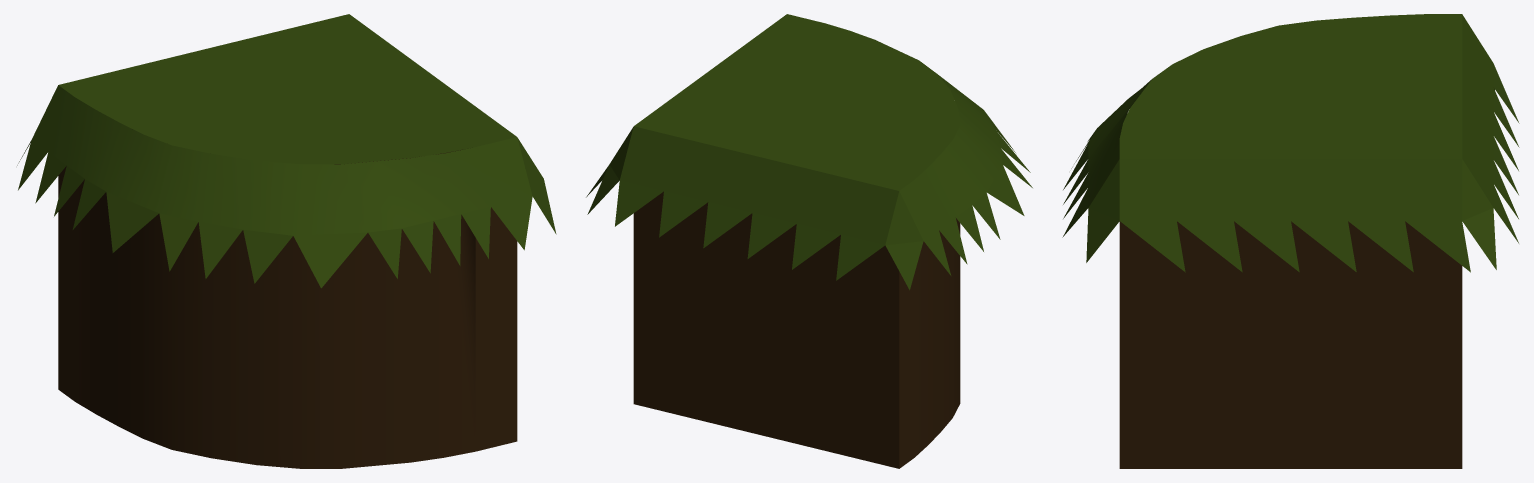
Rendered from Tile_Corner_Tree.fbx.
3 views of the same model, side by side, from view 1: azimuth 30°, elevation 25°; view 2: azimuth 150°, elevation 25°; view 3: azimuth 270°, elevation 25° (orthographic). The views are drawn at different scales.
Visible parts, largest first — view 1: blockCornerSmall; view 2: blockCornerSmall; view 3: blockCornerSmall.
Part boxes in pixels (<box>): blockCornerSmall: <box>17,14,556,468</box>; blockCornerSmall: <box>586,14,1032,468</box>; blockCornerSmall: <box>1062,14,1519,468</box>.
Size of the model in its own units: 52.58 by 52.58 by 39.37.
